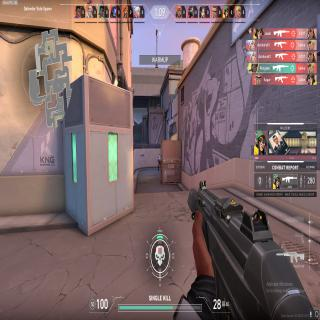ENEMY-BODY: (158, 156, 161, 172)
ENEMY-HEAD: (159, 156, 160, 158)
